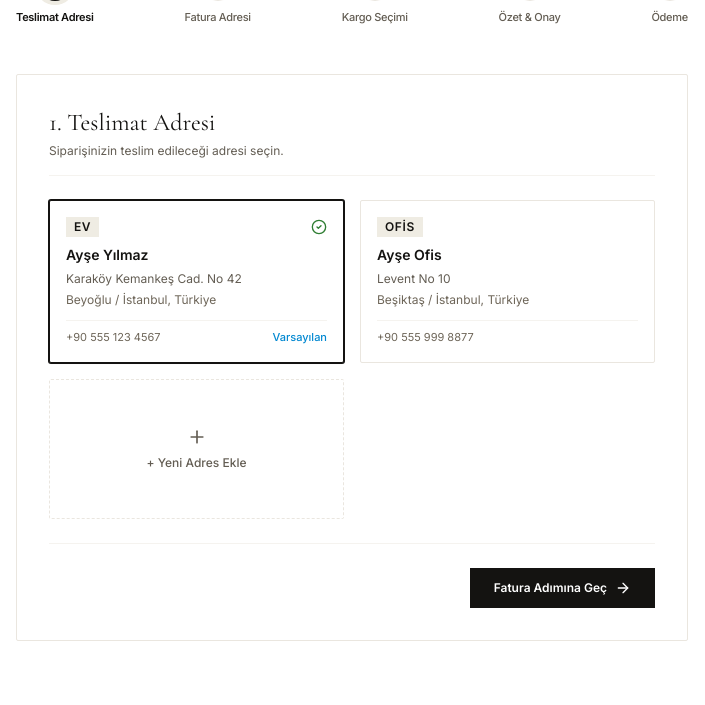
Test case: CheckoutPage Component › handles quote fetch error and separate billing address flow
The image size is (705, 705).
(page scrolled)
# Advance to Step 2
Step 1. Click the button "Fatura Adımına Geç" → (562,588), box [470,568,655,608]
(page scrolled)
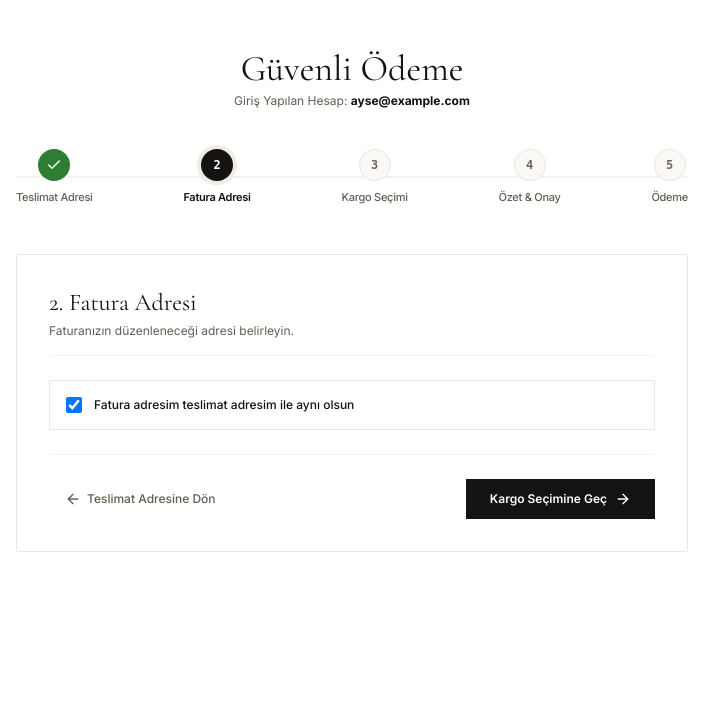
Expected: the heading "2. Fatura Adresi" is shown, [49,288,197,316]
Step 2. Click the checkbox → (74,404), box [66,396,82,412]
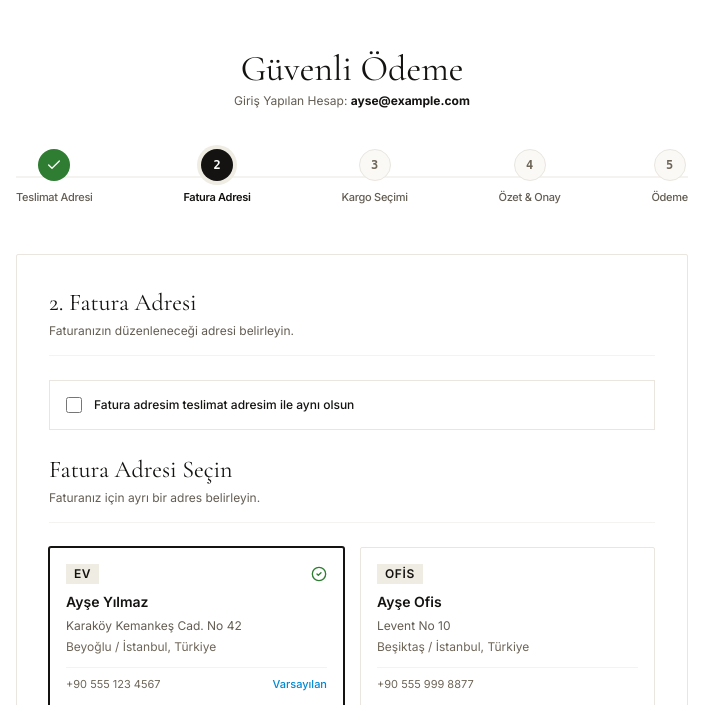
Expected: the text "Ayşe Ofis" is shown
Step 3. Click the text "Ayşe Ofis" → (409,601), box [377,592,442,610]
(page scrolled)
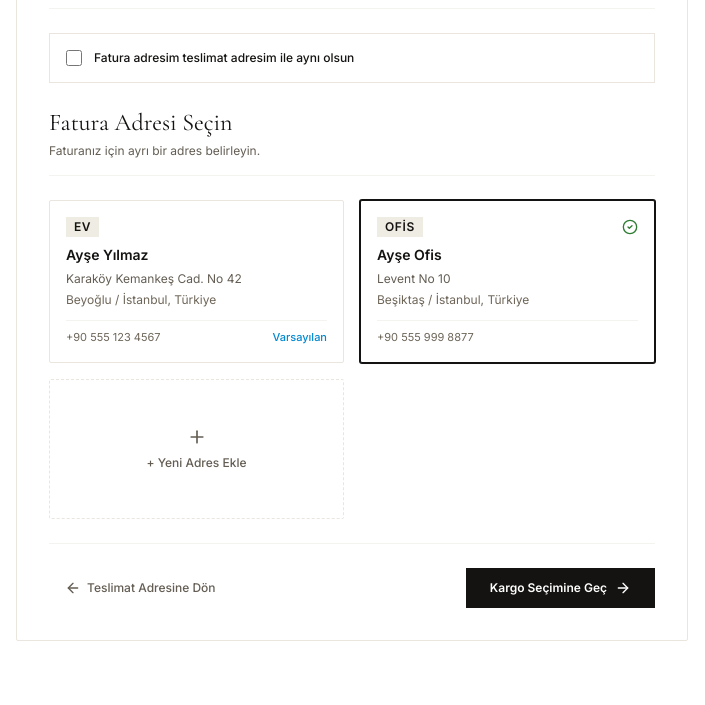
Step 4. Click the button "Kargo Seçimine Geç" → (560,588), box [466,568,655,608]
(page scrolled)
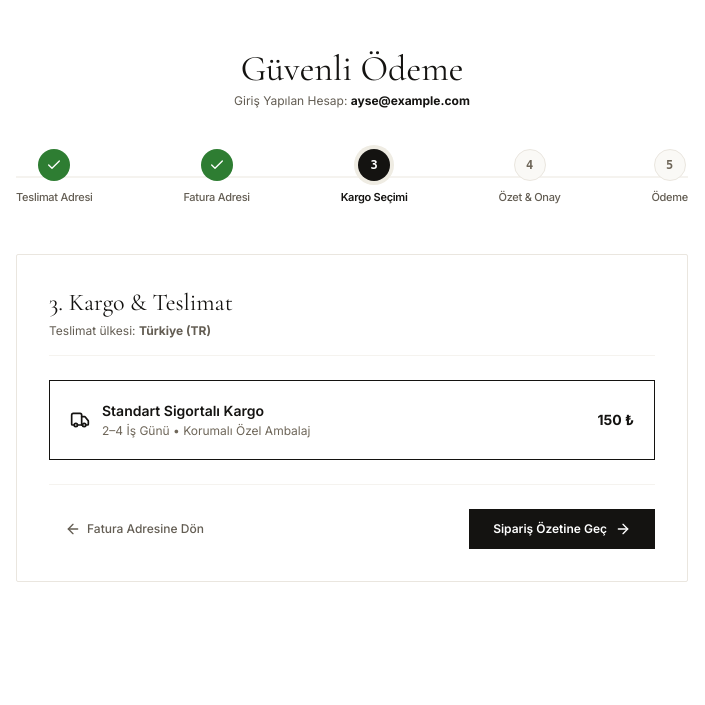
Expected: the heading "3. Kargo & Teslimat" is shown, [49,288,233,316]
Step 5. Click the button "Fatura Adresine Dön" → (134,528), box [49,508,220,548]
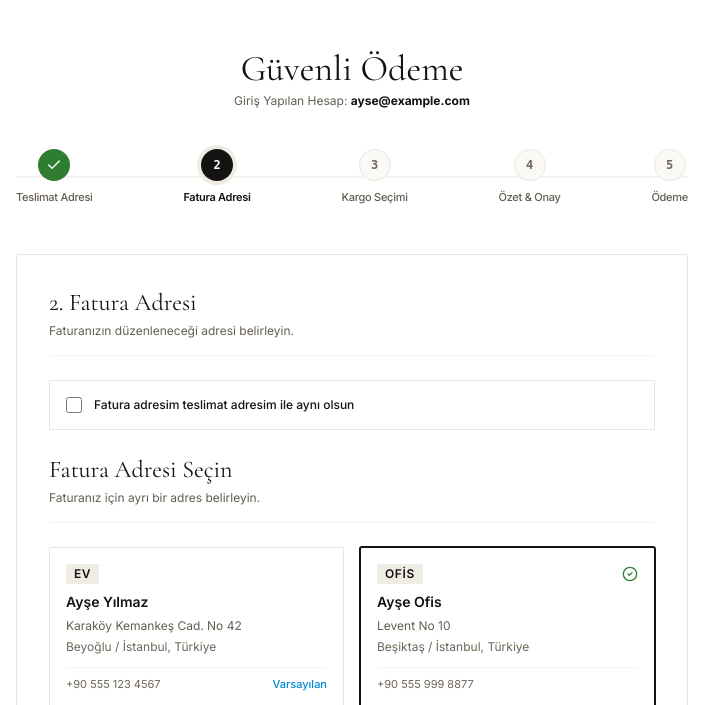
Expected: the heading "2. Fatura Adresi" is shown, [49,288,197,316]
